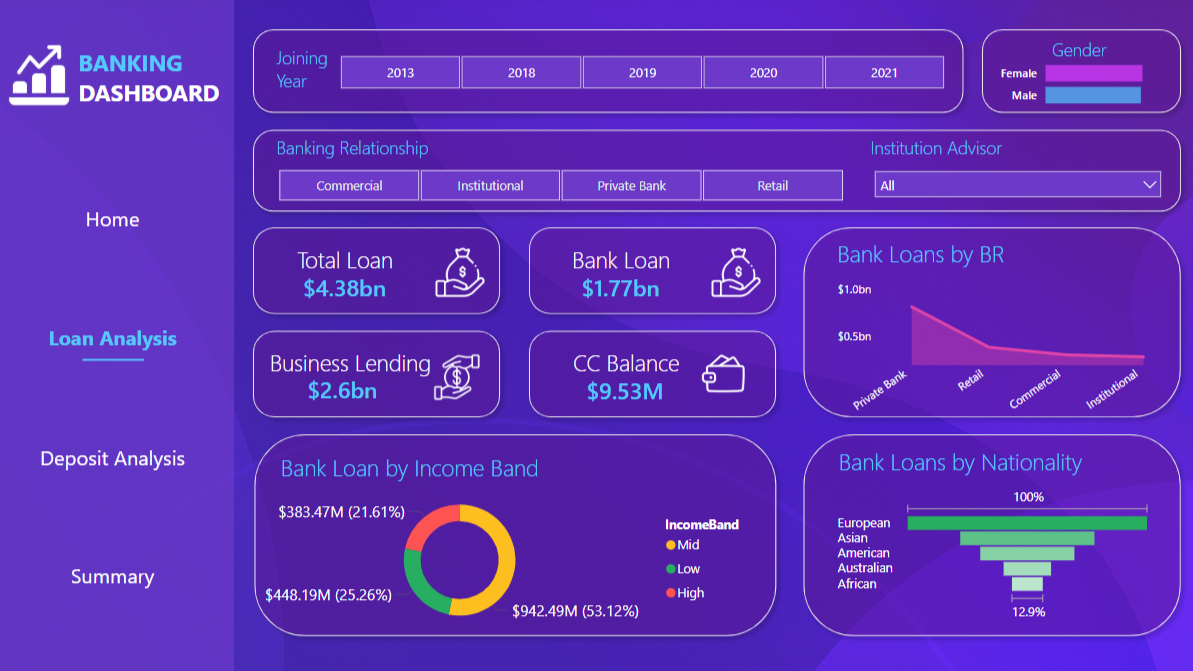

The dashboard page shown, as its layout file describes it:
{"tool":"powerbi","page":{"name":"Loan Analysis","canvas":[1280,720],"ordinal":1},"visuals":[{"type":"shape","box":[0,0,257.7,720.5],"z":0,"group":"g16"},{"type":"shape","box":[1041.4,27,229,106.6],"z":0,"group":"g14"},{"type":"group","id":"g1","title":"Group 4","box":[279.8,143.1,647,81.1],"z":0,"group":"g17"},{"type":"actionButton","box":[97,222.7,65.2,30.2],"z":0},{"type":"shape","box":[852.6,237.5,418.3,219.5],"z":0,"group":"g6"},{"type":"shape","box":[852.6,456.5,418.3,232.2],"z":0,"group":"g5"},{"type":"shape","box":[268.8,27,771.4,106.6],"z":1000,"group":"g15"},{"type":"image","box":[0,35,104,98.6],"z":1000,"group":"g4"},{"type":"group","id":"g2","title":"Group 10","box":[1047.8,39.9,211.6,44.5],"z":1000,"group":"g14"},{"type":"group","id":"g3","title":"Group 6","box":[926.8,143.1,323.5,79.5],"z":1000,"group":"g17"},{"type":"textbox","box":[0,215.8,257.7,44.5],"z":1000,"group":"g16"},{"type":"textbox","box":[894.6,472,287.9,44.5],"z":1000,"group":"g5"},{"type":"actionButton","box":[49.3,477.2,159.1,28.6],"z":1000},{"type":"group","id":"g4","title":"Group 1","box":[0,35,257.7,98.6],"z":2000,"group":"g16"},{"type":"barChart","fields":{"Category":["Banking.GenderId"],"Y":["CountNonNull(Banking.Name)"]},"box":[1064.1,39.7,195.6,101.8],"z":2000,"group":"g14"},{"type":"textbox","box":[87.8,49.3,169.8,84.3],"z":2000,"group":"g4"},{"type":"shape","box":[268.8,133.6,1002.1,105],"z":2000,"group":"g13"},{"type":"shape","box":[269.3,237.7,280,110],"z":2000,"group":"g12"},{"type":"shape","box":[560.9,237.7,280,110],"z":2000,"group":"g10"},{"type":"shape","box":[269.7,347.2,279.9,109.8],"z":2000,"group":"g9"},{"type":"shape","box":[561.1,347.2,279.9,109.8],"z":2000,"group":"g11"},{"type":"actionButton","box":[74.8,601.3,106.6,33.4],"z":2000},{"type":"shape","box":[269.6,456.5,571,232.2],"z":3000,"group":"g8"},{"type":"group","id":"g5","title":"Group 14","box":[852.6,456.5,418.3,232.2],"z":3000},{"type":"textbox","box":[0,468.7,257.7,44],"z":3000,"group":"g16"},{"type":"group","id":"g6","title":"Group 16","box":[852.6,237.5,418.3,219.5],"z":4000},{"type":"textbox","box":[0,342.5,257.7,44],"z":4000,"group":"g7"},{"type":"textbox","box":[0,594.9,257.7,44.5],"z":4000,"group":"g16"},{"type":"group","id":"g7","title":"Group 2","box":[0,342.5,257.7,66.3],"z":5000,"group":"g16"},{"type":"group","id":"g8","title":"Group 15","box":[269.6,456.5,571,232.2],"z":5000},{"type":"group","id":"g9","title":"Group 17","box":[269.2,347.2,280.4,109.8],"z":6000},{"type":"group","id":"g10","title":"Group 9","box":[560.9,237.7,280,110],"z":7000},{"type":"group","id":"g11","title":"Group 18","box":[561.1,347.2,279.9,109.8],"z":8000},{"type":"textbox","box":[1047.8,39.9,211.6,44.5],"z":9000,"group":"g2"},{"type":"textbox","box":[297.9,47.7,92.9,66.8],"z":9000,"group":"g15"},{"type":"group","id":"g12","title":"Group 8","box":[269.3,237.7,280,110],"z":9000},{"type":"slicer","fields":{"Values":["Banking.Year of Joining"]},"box":[344.4,56.8,689.6,48.3],"z":10000,"group":"g15"},{"type":"group","id":"g13","title":"Group 12","box":[268.8,133.6,1002.1,105],"z":10000},{"type":"shape","box":[97,364.2,65.2,44.5],"z":10000,"group":"g7"},{"type":"group","id":"g14","title":"Group 11","box":[1041.4,27,229,114.5],"z":11000},{"type":"textbox","box":[297,143.1,196.2,41.4],"z":11000,"group":"g1"},{"type":"group","id":"g15","title":"Group 3","box":[268.8,27,771.4,106.6],"z":12000},{"type":"textbox","box":[926.8,143.1,233.6,41.4],"z":12000,"group":"g3"},{"type":"donutChart","title":"Bank Loan by Income Band","fields":{"Category":["Banking.IncomeBand"],"Y":["Sum(Banking.Bank Loans)"]},"box":[272,518.5,542.1,160.7],"z":12000,"group":"g8"},{"type":"group","id":"g16","title":"Group 19","box":[0,0,257.7,720.5],"z":13000},{"type":"slicer","fields":{"Values":["Banking.BRId"]},"box":[279.8,178.1,647,46.1],"z":13000,"group":"g1"},{"type":"areaChart","title":"Bank Loans by BR","fields":{"Category":["Banking.BRId"],"Y":["Sum(Banking.Bank Loans)"]},"box":[893.1,298.7,367.4,157.5],"z":13000,"group":"g6"},{"type":"actionButton","box":[52.5,474,155.9,39.8],"z":14000},{"type":"textbox","box":[301,478.8,328.1,50.9],"z":14000,"group":"g8"},{"type":"group","id":"g17","title":"Group 7","box":[279.8,143.1,970.5,81.1],"z":15000,"group":"g13"},{"type":"slicer","fields":{"Values":["Banking.IAId"]},"box":[926.8,176.5,323.5,46.1],"z":15000,"group":"g3"},{"type":"actionButton","box":[74.8,598.1,106.6,39.8],"z":15000},{"type":"actionButton","box":[97,224.3,65.2,28.6],"z":16000},{"type":"textbox","box":[269.3,258.4,213.1,44.5],"z":16000,"group":"g18"},{"type":"textbox","box":[560.9,258.4,213.1,44.5],"z":16000,"group":"g19"},{"type":"textbox","box":[578,367.4,189.3,44.5],"z":16000,"group":"g20"},{"type":"textbox","box":[286.6,367.5,189.3,44.5],"z":16000,"group":"g9"},{"type":"card","fields":{"Values":["Banking.Total Loan"]},"box":[283.6,285.4,182.9,52.5],"z":19000,"group":"g18"},{"type":"card","fields":{"Values":["Sum(Banking.Bank Loans)"]},"box":[575.2,285.4,182.9,52.5],"z":19000,"group":"g19"},{"type":"card","fields":{"Values":["Sum(Banking.Business Lending)"]},"box":[269.2,391.3,206.8,55.7],"z":19000,"group":"g9"},{"type":"card","fields":{"Values":["Sum(Banking.Credit Card Balance)"]},"box":[576.3,392.5,189.3,54.1],"z":19000,"group":"g20"},{"type":"image","box":[460.1,371.1,68,68],"z":20500,"group":"g9"},{"type":"image","box":[735.6,361.5,79.5,79.5],"z":20501,"group":"g21"},{"type":"textbox","box":[892.4,252.5,195.6,42.1],"z":21000,"group":"g6"},{"type":"image","box":[466.5,263.2,62,62],"z":22000,"group":"g18"},{"type":"image","box":[758.1,263.2,62,62],"z":22000,"group":"g19"},{"type":"group","id":"g18","title":"Group 5","box":[269.3,258.4,259.3,79.5],"z":22001,"group":"g12"},{"type":"group","id":"g19","title":"Group 5","box":[560.9,258.4,259.3,79.5],"z":22001,"group":"g10"},{"type":"group","id":"g20","title":"Group 5","box":[576.3,367.4,191,79.2],"z":22001,"group":"g21"},{"type":"funnel","title":"Bank Loans by Nation","fields":{"Category":["Banking.Nationality"],"Y":["Sum(Banking.Bank Loans)"]},"box":[892.4,516.9,343.6,149.5],"z":23000,"group":"g5"},{"type":"group","id":"g21","title":"Group 13","box":[576.3,361.5,238.8,85.1],"z":23007,"group":"g11"}]}

Visuals, with their boxes in screenshot pixels (x1, y1, x2, y2), scaled from the page's 1280x720 canvas onto the 1193x671 screenshot:
shape: (0, 0, 240, 670)
shape: (971, 25, 1184, 125)
"Group 4" group: (261, 133, 864, 209)
actionButton: (90, 208, 151, 236)
shape: (795, 221, 1185, 426)
shape: (795, 425, 1185, 642)
shape: (251, 25, 969, 125)
image: (0, 33, 97, 125)
"Group 10" group: (977, 37, 1174, 79)
"Group 6" group: (864, 133, 1165, 207)
textbox: (0, 201, 240, 243)
textbox: (834, 440, 1102, 481)
actionButton: (46, 445, 194, 471)
"Group 1" group: (0, 33, 240, 125)
barChart - Banking.GenderId x CountNonNull(Banking.Name): (992, 37, 1174, 132)
textbox: (82, 46, 240, 125)
shape: (251, 125, 1185, 222)
shape: (251, 222, 512, 324)
shape: (523, 222, 784, 324)
shape: (251, 324, 512, 426)
shape: (523, 324, 784, 426)
actionButton: (70, 560, 169, 592)
shape: (251, 425, 783, 642)
"Group 14" group: (795, 425, 1185, 642)
textbox: (0, 437, 240, 478)
"Group 16" group: (795, 221, 1185, 426)
textbox: (0, 319, 240, 360)
textbox: (0, 554, 240, 596)
"Group 2" group: (0, 319, 240, 381)
"Group 15" group: (251, 425, 783, 642)
"Group 17" group: (251, 324, 512, 426)
"Group 9" group: (523, 222, 784, 324)
"Group 18" group: (523, 324, 784, 426)
textbox: (977, 37, 1174, 79)
textbox: (278, 44, 364, 107)
"Group 8" group: (251, 222, 512, 324)
slicer - Banking.Year of Joining: (321, 53, 964, 98)
"Group 12" group: (251, 125, 1185, 222)
shape: (90, 339, 151, 381)
"Group 11" group: (971, 25, 1184, 132)
textbox: (277, 133, 460, 172)
"Group 3" group: (251, 25, 969, 125)
textbox: (864, 133, 1082, 172)
"Bank Loan by Income Band" donutChart: (254, 483, 759, 633)
"Group 19" group: (0, 0, 240, 670)
slicer - Banking.BRId: (261, 166, 864, 209)
"Bank Loans by BR" areaChart: (832, 278, 1175, 425)
actionButton: (49, 442, 194, 479)
textbox: (281, 446, 586, 494)
"Group 7" group: (261, 133, 1165, 209)
slicer - Banking.IAId: (864, 164, 1165, 207)
actionButton: (70, 557, 169, 594)
actionButton: (90, 209, 151, 236)
textbox: (251, 241, 450, 282)
textbox: (523, 241, 721, 282)
textbox: (539, 342, 715, 384)
textbox: (267, 342, 444, 384)
card - Banking.Total Loan: (264, 266, 435, 315)
card - Sum(Banking.Bank Loans): (536, 266, 707, 315)
card - Sum(Banking.Business Lending): (251, 365, 444, 417)
card - Sum(Banking.Credit Card Balance): (537, 366, 714, 416)
image: (429, 346, 492, 409)
image: (686, 337, 760, 411)
textbox: (832, 235, 1014, 275)
image: (435, 245, 493, 303)
image: (707, 245, 764, 303)
"Group 5" group: (251, 241, 493, 315)
"Group 5" group: (523, 241, 764, 315)
"Group 5" group: (537, 342, 715, 416)
"Bank Loans by Nation" funnel: (832, 482, 1152, 621)
"Group 13" group: (537, 337, 760, 416)
